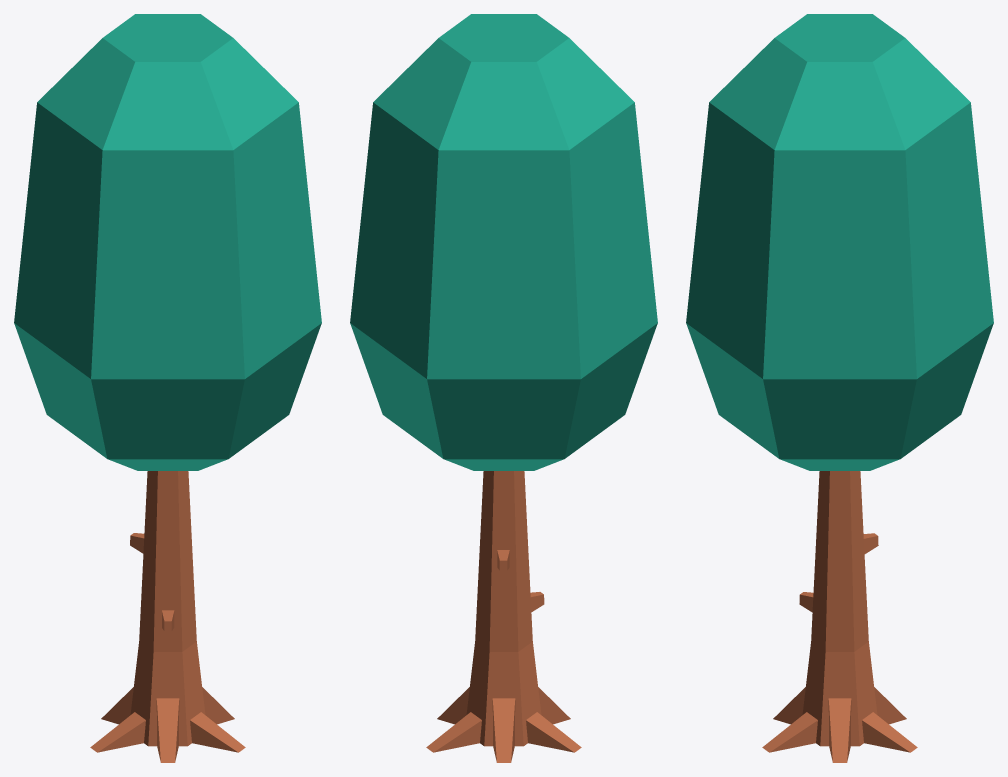
File: tree-thuong-b.glb
The picture shows the model from 3 angles, left to right: view 1: azimuth 30°, elevation 25°; view 2: azimuth 150°, elevation 25°; view 3: azimuth 270°, elevation 25°; orthographic projection.
Parts seen in each view (by area): view 1: tree; view 2: tree; view 3: tree.
Boxes of the visible parts, x1=… form: tree: x1=14, y1=14, x2=321, y2=762; tree: x1=350, y1=14, x2=657, y2=762; tree: x1=686, y1=14, x2=993, y2=762.
Bounding box in the file's own units: 0.6406 × 1.84 × 0.7396.
